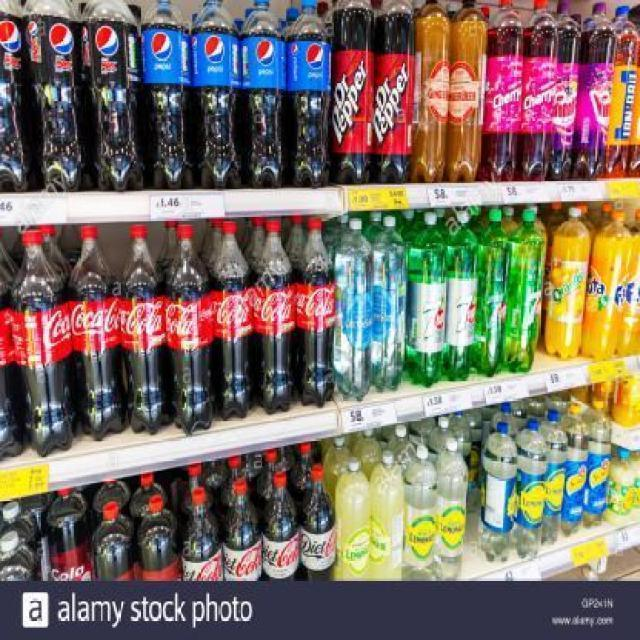Drinks: (9, 231, 68, 457), (69, 226, 124, 440), (25, 0, 84, 194), (82, 0, 140, 192), (140, 0, 196, 191), (166, 226, 215, 437), (119, 225, 166, 436), (192, 0, 241, 191), (242, 0, 288, 189), (581, 208, 634, 364), (286, 1, 330, 188), (332, 0, 375, 186), (215, 222, 255, 420), (256, 219, 296, 416), (296, 217, 336, 410), (375, 2, 415, 185), (503, 209, 546, 374), (408, 212, 448, 388), (475, 210, 510, 379), (447, 210, 480, 381), (262, 471, 300, 580), (301, 463, 336, 580), (181, 486, 224, 580), (223, 477, 262, 580)
